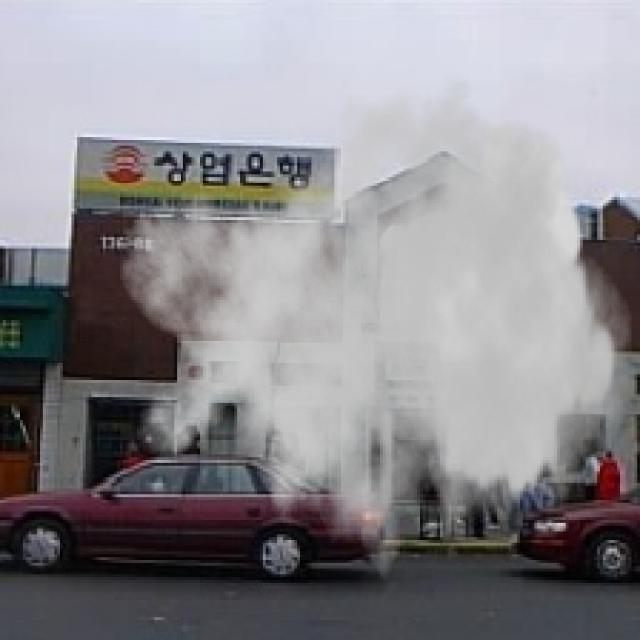Smoke: (117, 66, 634, 603)
